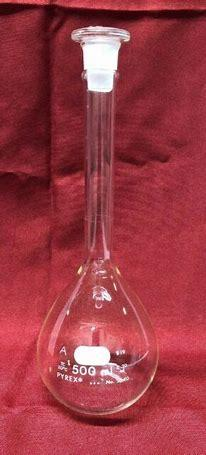Volumetric flask: (39, 25, 166, 417)
